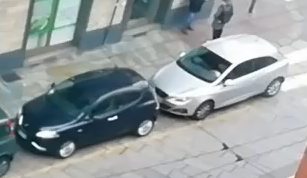Car: (17, 63, 159, 163), (145, 28, 291, 122)
